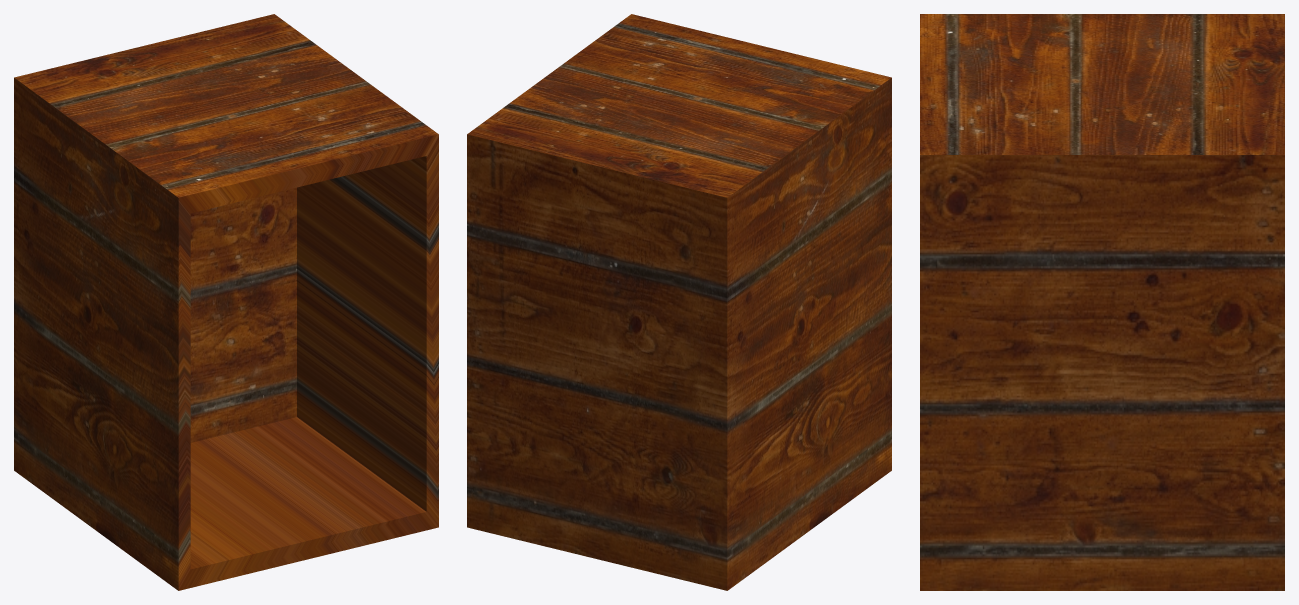
Rendered from armario.glb.
3 views of the same model, side by side, from view 1: azimuth 30°, elevation 25°; view 2: azimuth 150°, elevation 25°; view 3: azimuth 270°, elevation 25° (orthographic). The views are drawn at different scales.
Parts seen in each view (by area): view 1: Cubo.004; view 2: Cubo.004; view 3: Cubo.004.
Boxes of the visible parts, left/top/right/bottom form: Cubo.004: left=14, top=14, right=438, bottom=590; Cubo.004: left=467, top=14, right=891, bottom=590; Cubo.004: left=920, top=14, right=1284, bottom=590.
Size of the model in its own units: 5.89 by 8.5 by 6.45.
1 material, 1 textured.
